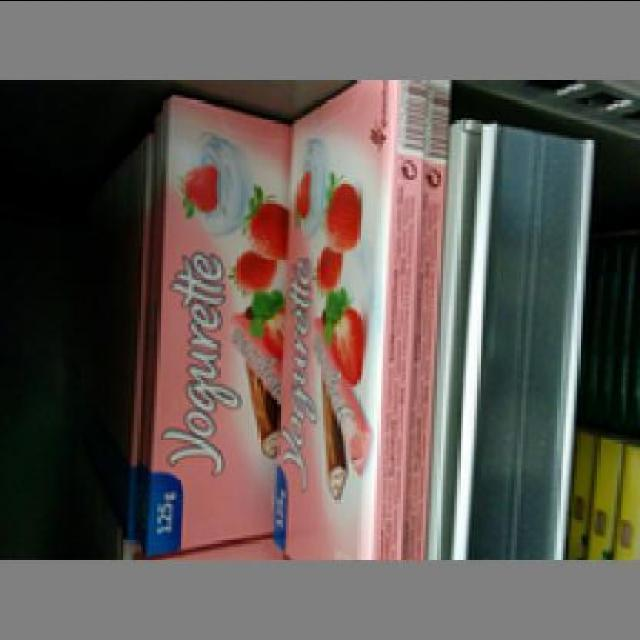Chocolate bar: (270, 86, 412, 563), (140, 94, 286, 557)
